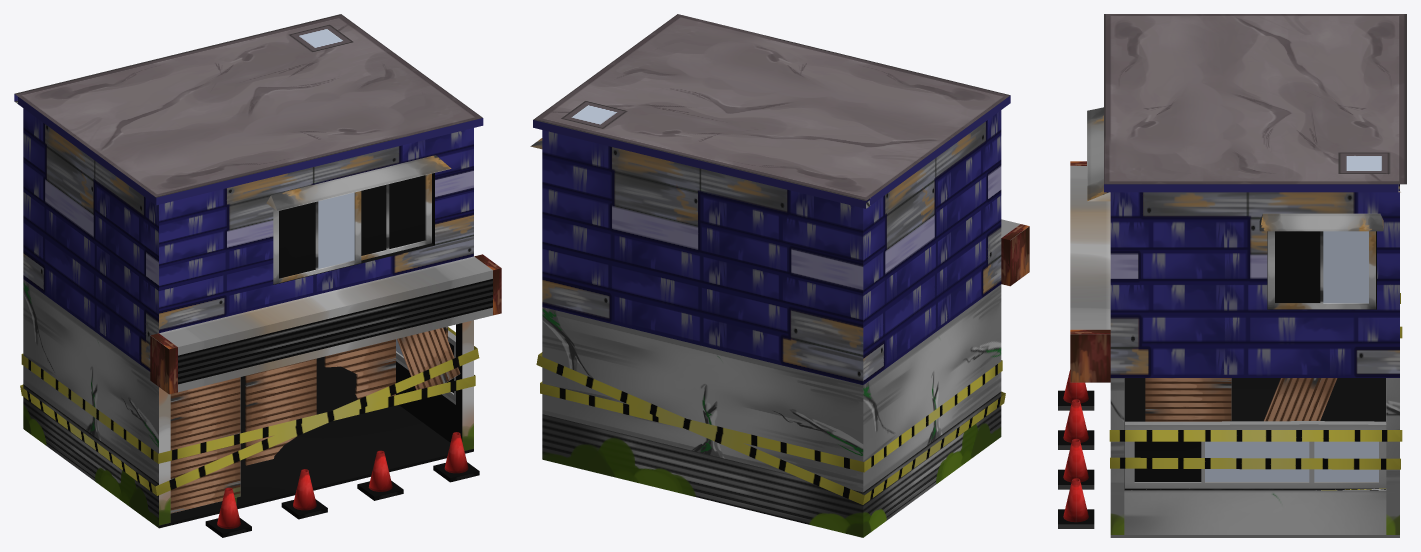
Rendered from House2.fbx.
The picture shows the model from 3 angles, left to right: view 1: azimuth 30°, elevation 25°; view 2: azimuth 150°, elevation 25°; view 3: azimuth 270°, elevation 25°; orthographic projection. The views are drawn at different scales.
Parts seen in each view (by area): view 1: HouseNoAccess; view 2: HouseNoAccess; view 3: HouseNoAccess.
Part boxes in pixels (x1,y1,x2,y2): HouseNoAccess: (14,14,501,537); HouseNoAccess: (530,14,1029,537); HouseNoAccess: (1058,14,1406,537).
Size of the model in its own units: 730 by 681 by 602.
